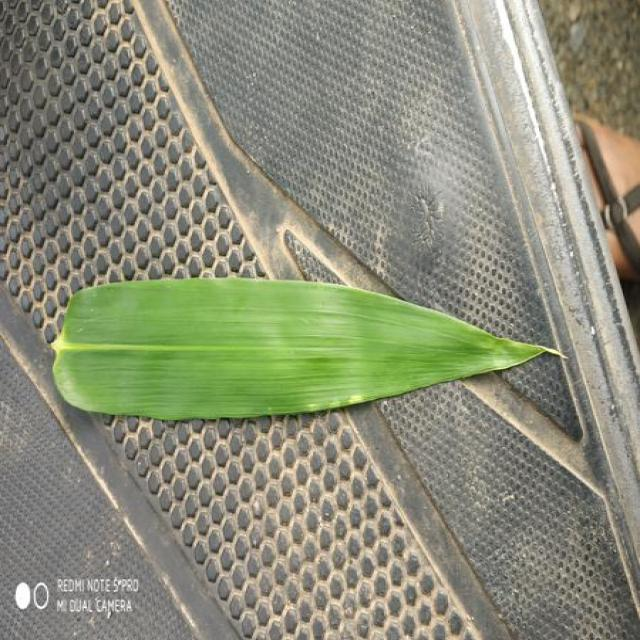Bamboo: (53, 279, 558, 420)
